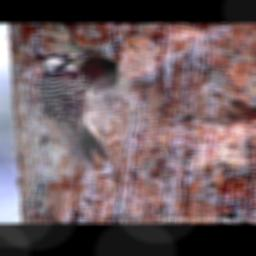Woodpecker: (38, 51, 108, 164)
